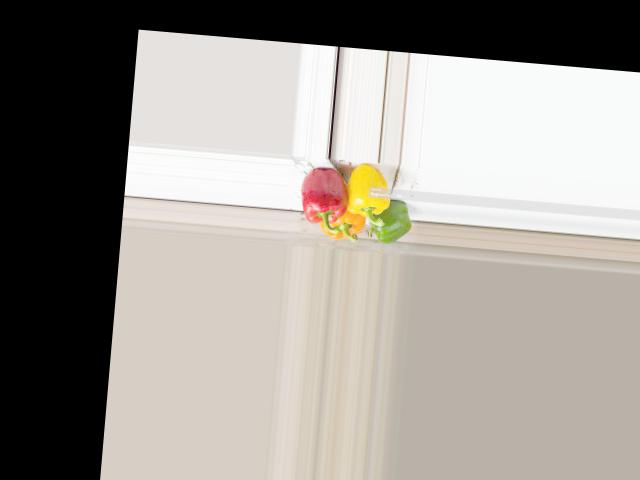bell_pepper: (318, 206, 368, 243)
